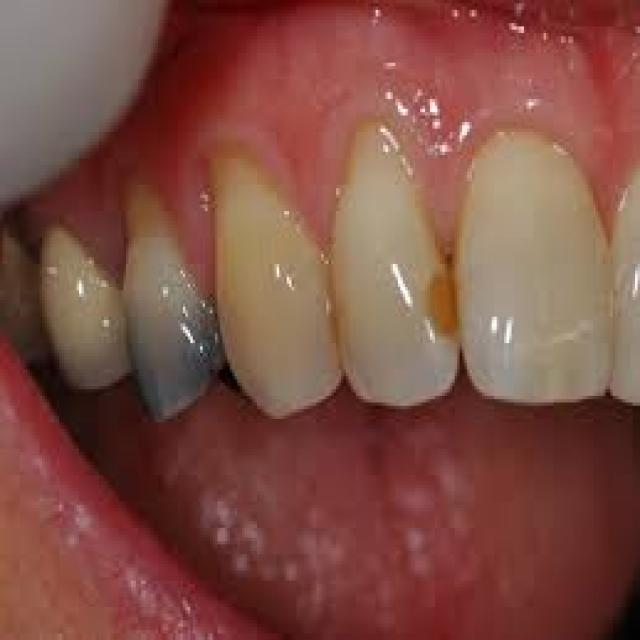Tooth Discoloration: (51, 266, 221, 420)
